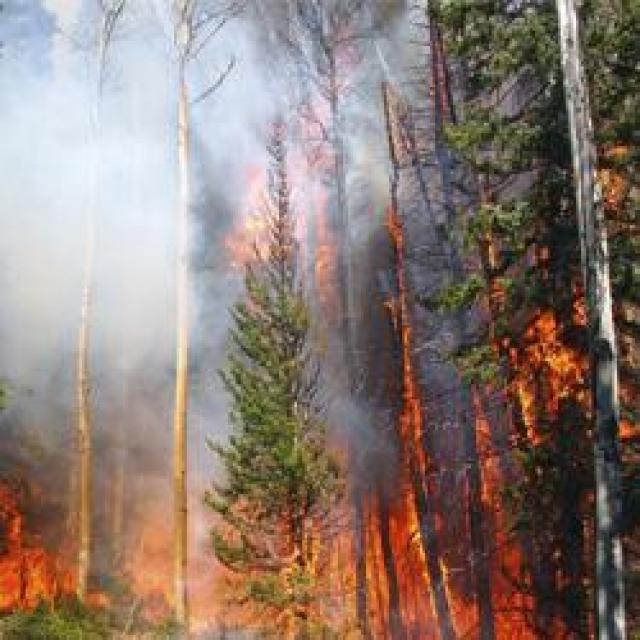fire: (346, 183, 594, 640), (0, 462, 122, 626)
